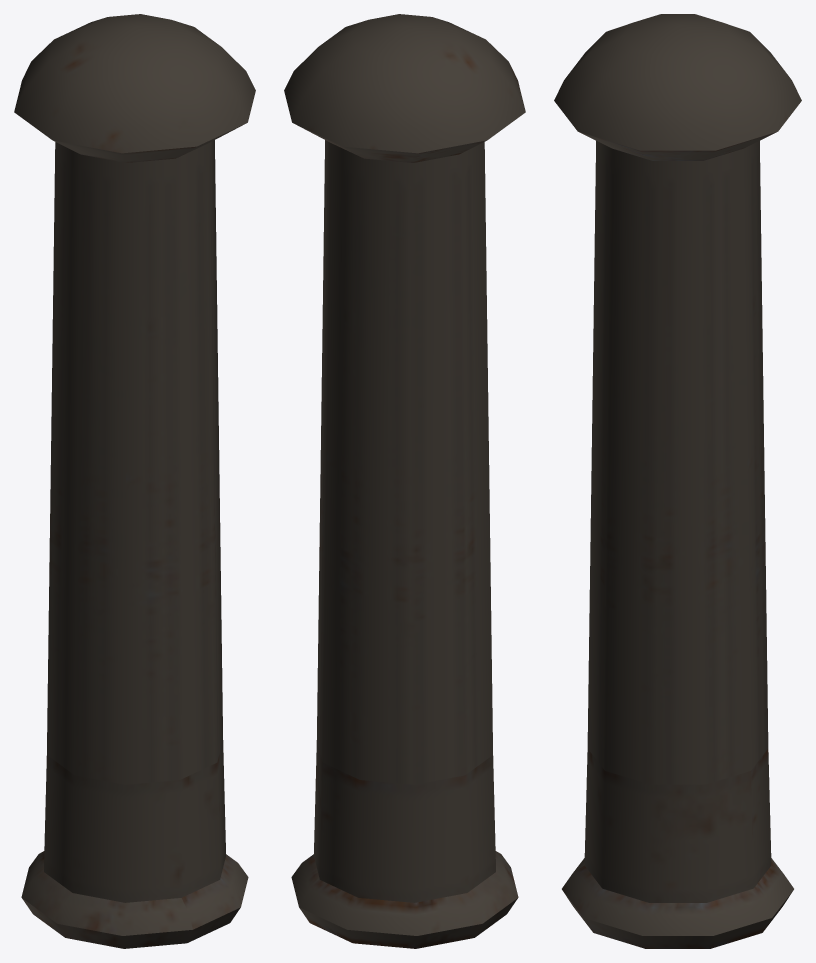
The picture shows the model from 3 angles, left to right: view 1: azimuth 30°, elevation 25°; view 2: azimuth 150°, elevation 25°; view 3: azimuth 270°, elevation 25°; orthographic projection.
Parts seen in each view (by area): view 1: Prop_Bollard; view 2: Prop_Bollard; view 3: Prop_Bollard.
Boxes of the visible parts, x1,y1,x2,y2 form: Prop_Bollard: (14, 14, 255, 948); Prop_Bollard: (284, 14, 525, 948); Prop_Bollard: (554, 14, 801, 948).
Size of the model in its own units: 0.2163 by 0.8918 by 0.2274.
1 material, 1 textured.
